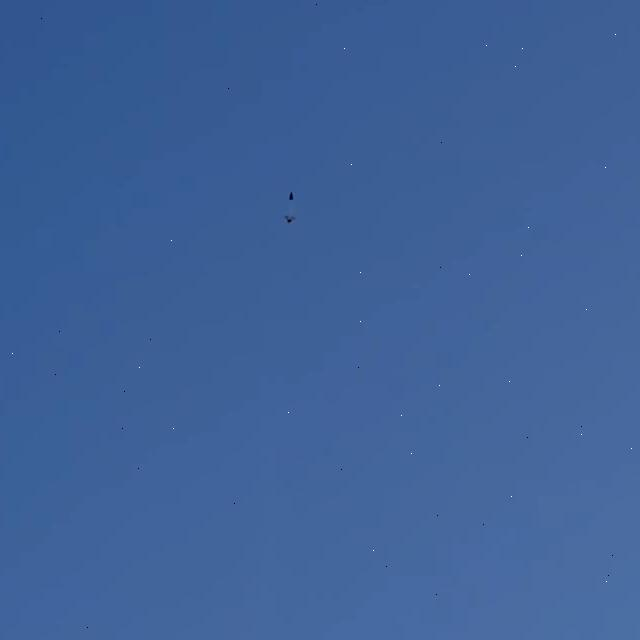rocket: (284, 191, 295, 225)
